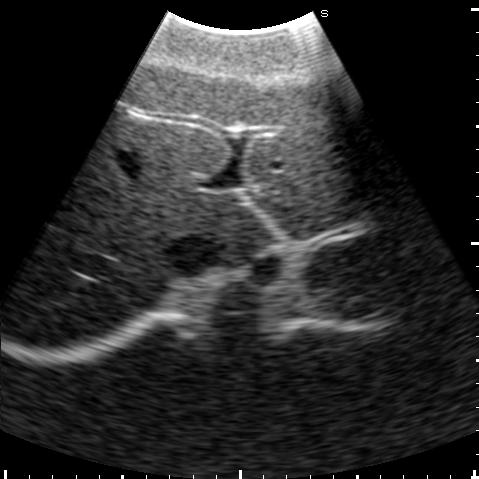IVC: (160, 232, 225, 280)
S1: (213, 198, 277, 262)
S2: (245, 176, 416, 241)
S3: (233, 70, 405, 212)
